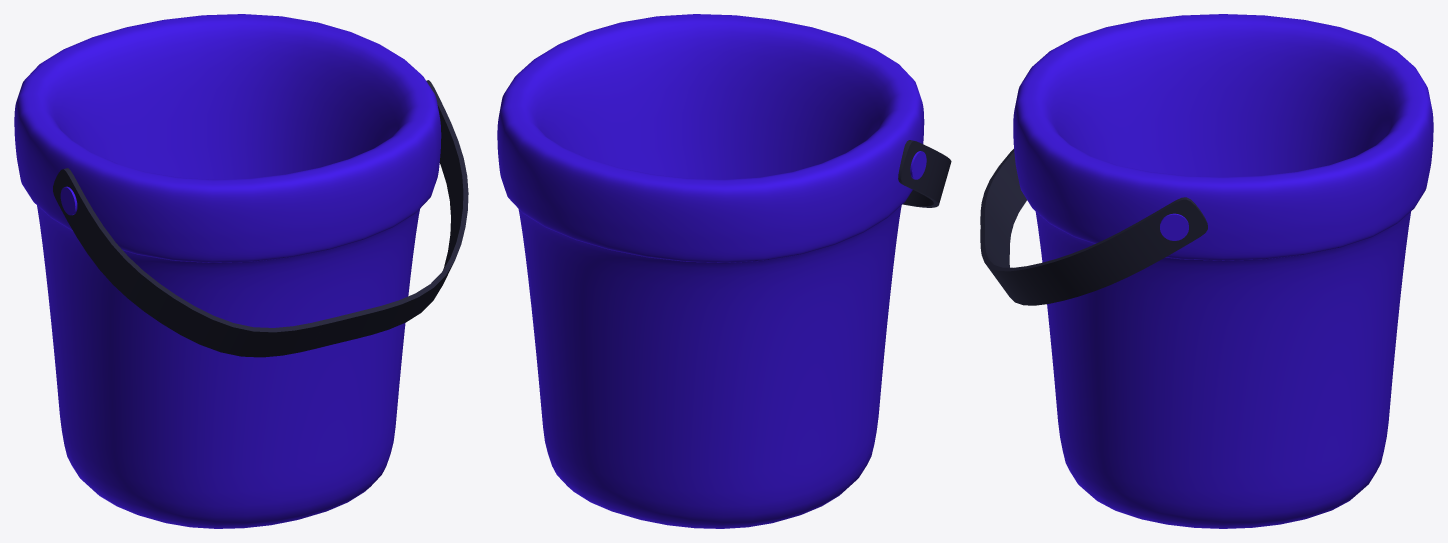
The model's file is ведёрко.fbx.
3 views of the same model, side by side, from view 1: azimuth 30°, elevation 25°; view 2: azimuth 150°, elevation 25°; view 3: azimuth 270°, elevation 25° (orthographic).
Parts seen in each view (by area): view 1: Cube.006; view 2: Cube.006; view 3: Cube.006.
Part boxes in pixels (x1,y1,x2,y2): Cube.006: [14, 14, 468, 528]; Cube.006: [497, 14, 951, 528]; Cube.006: [980, 14, 1433, 528].
Bounding box in the file's own units: 48.62 × 47.93 × 51.5.
